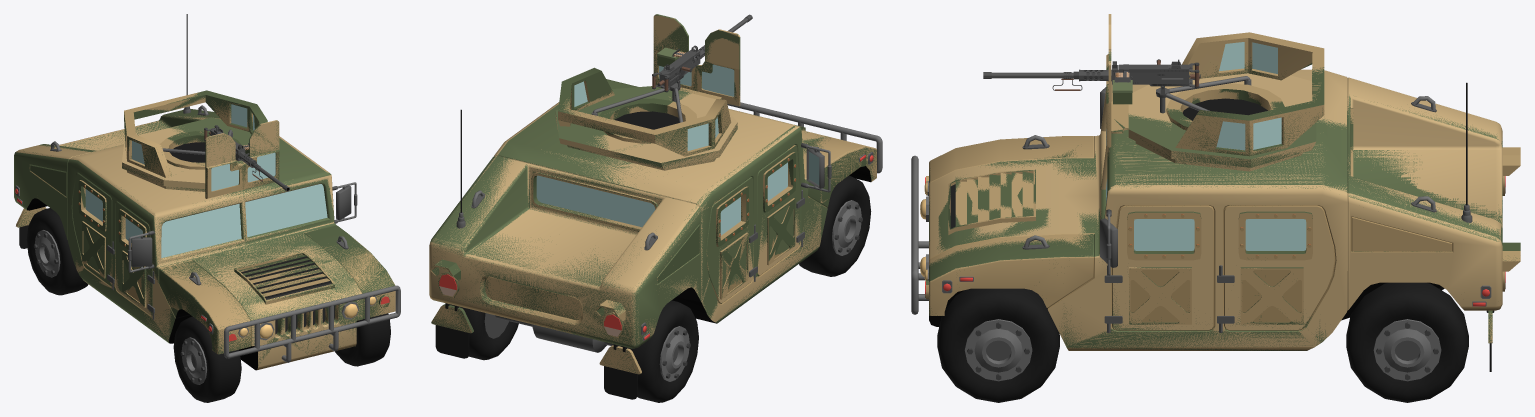
File: SM_Vehicles_Military_V1.fbx
The picture shows the model from 3 angles, left to right: view 1: azimuth 30°, elevation 25°; view 2: azimuth 150°, elevation 25°; view 3: azimuth 270°, elevation 25°; orthographic projection. The views are drawn at different scales.
Visible parts, largest first — view 1: SM_Vehicles_Military_V2, SM_Vehicles_Military_V1, SM_Vehicles_Military_V1_Weapon, SM_Vehicles_Military_V2_Weapon, SM_Vehicles_Military_FR, SM_Vehicles_Military_RR, SM_Vehicles_Military_FL; view 2: SM_Vehicles_Military_V1, SM_Vehicles_Military_V2, SM_Vehicles_Military_V1_Weapon, SM_Vehicles_Military_V2_Weapon, SM_Vehicles_Military_RR, SM_Vehicles_Military_FR, SM_Vehicles_Military_RL; view 3: SM_Vehicles_Military_V1, SM_Vehicles_Military_V2, SM_Vehicles_Military_V1_Weapon, SM_Vehicles_Military_RL, SM_Vehicles_Military_FL, SM_Vehicles_Military_V2_Weapon.
Part boxes in pixels (<box>): SM_Vehicles_Military_V2: <box>14,14,400,370</box>; SM_Vehicles_Military_V1: <box>16,14,400,369</box>; SM_Vehicles_Military_V1_Weapon: <box>122,92,289,198</box>; SM_Vehicles_Military_V2_Weapon: <box>122,90,289,198</box>; SM_Vehicles_Military_FR: <box>173,316,241,402</box>; SM_Vehicles_Military_RR: <box>26,208,88,295</box>; SM_Vehicles_Military_FL: <box>335,313,390,366</box>; SM_Vehicles_Military_V1: <box>429,102,881,399</box>; SM_Vehicles_Military_V2: <box>430,79,882,398</box>; SM_Vehicles_Military_V1_Weapon: <box>555,15,752,170</box>; SM_Vehicles_Military_V2_Weapon: <box>555,14,751,169</box>; SM_Vehicles_Military_RR: <box>621,300,698,402</box>; SM_Vehicles_Military_FR: <box>799,175,871,276</box>; SM_Vehicles_Military_RL: <box>451,304,518,360</box>; SM_Vehicles_Military_V1: <box>911,69,1520,369</box>; SM_Vehicles_Military_V2: <box>911,95,1520,371</box>; SM_Vehicles_Military_V1_Weapon: <box>983,14,1324,171</box>; SM_Vehicles_Military_RL: <box>1346,282,1468,402</box>; SM_Vehicles_Military_FL: <box>937,288,1059,402</box>; SM_Vehicles_Military_V2_Weapon: <box>983,51,1324,170</box>.
Bounding box in the file's own units: 2.99 × 2.8 × 4.94.
